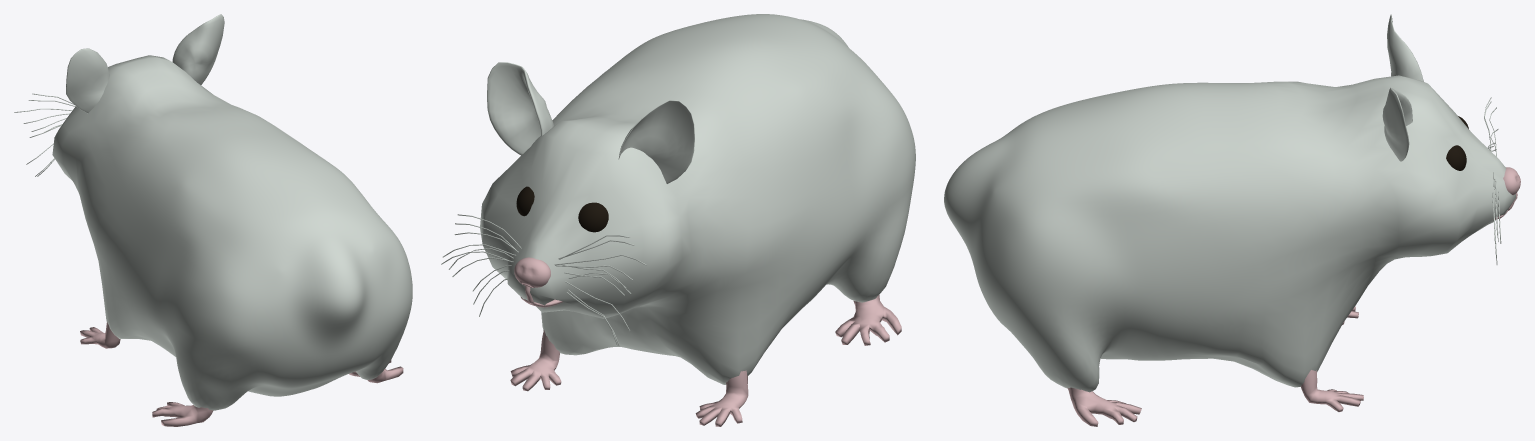
File: LBSR_Hamster.fbx
3 renders of one model, left to right at view 1: azimuth 30°, elevation 25°; view 2: azimuth 150°, elevation 25°; view 3: azimuth 270°, elevation 25°, orthographic. The views are drawn at different scales.
Visible parts, largest first — view 1: body, ear_right, ear_left, leg_back_left, leg_front_left; view 2: body, ear_right, ear_left, leg_back_left, leg_front_left, leg_front_right, nose, eye_left; view 3: body, ear_right, leg_back_right, ear_left, leg_front_right.
Boxes of the visible parts, <box> form: body: <box>52,55,412,410</box>; ear_right: <box>172,14,224,84</box>; ear_left: <box>66,48,109,113</box>; leg_back_left: <box>152,402,213,426</box>; leg_front_left: <box>80,322,120,348</box>; body: <box>480,14,915,384</box>; ear_right: <box>487,62,553,155</box>; ear_left: <box>618,100,694,183</box>; leg_back_left: <box>835,294,901,345</box>; leg_front_left: <box>695,370,748,426</box>; leg_front_right: <box>510,330,561,391</box>; nose: <box>514,257,550,287</box>; eye_left: <box>578,202,608,232</box>; body: <box>944,75,1515,392</box>; ear_right: <box>1382,87,1412,161</box>; leg_back_right: <box>1067,387,1141,426</box>; ear_left: <box>1387,14,1423,81</box>; leg_front_right: <box>1300,370,1363,411</box>.
Size of the model in its own units: 0.1661 by 0.1843 by 0.3079.
